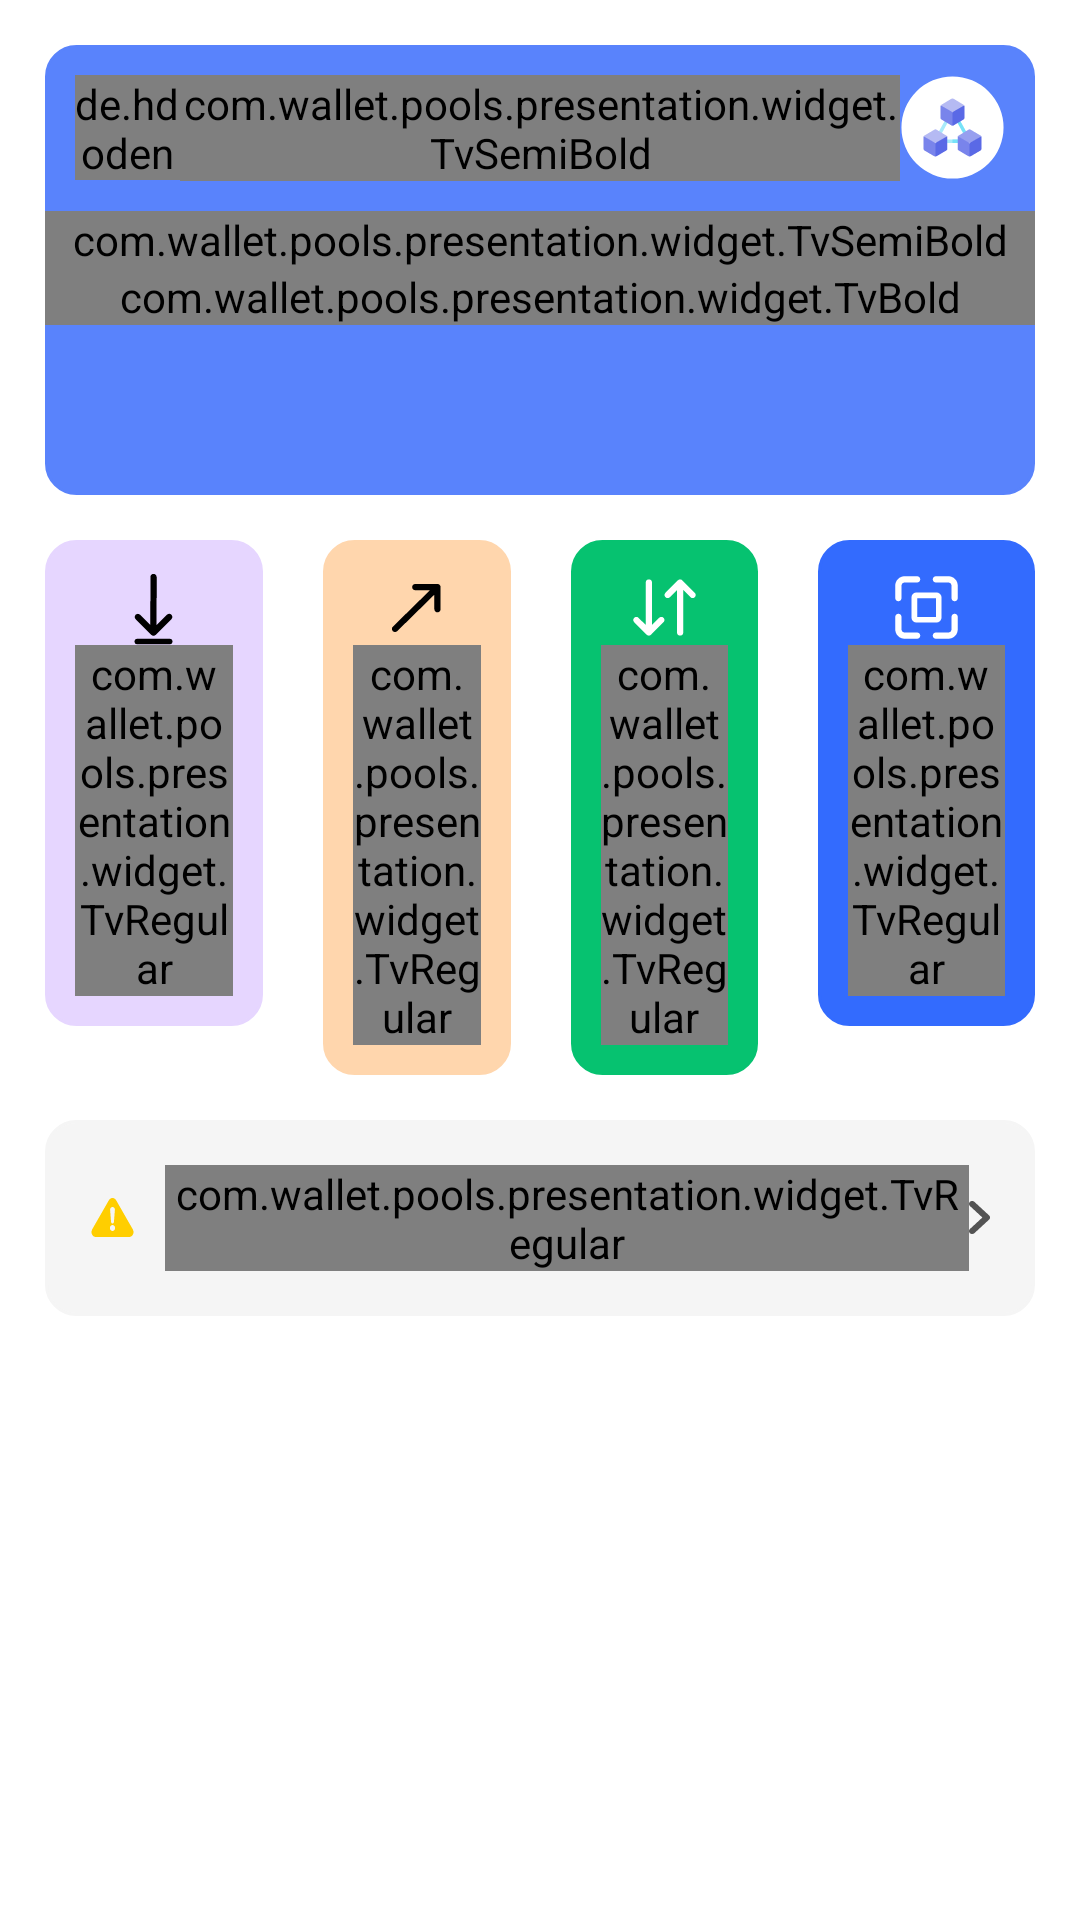

Screen size 1080px×1920px. Icon name, then its box in pixels as box(x1, y1, x2, y2):
chain: box(901, 76, 1004, 179)
receive: box(134, 574, 173, 636)
scan: box(895, 576, 958, 639)
send: box(392, 584, 441, 632)
swap: box(633, 579, 696, 636)
warning: box(91, 1198, 134, 1237)
